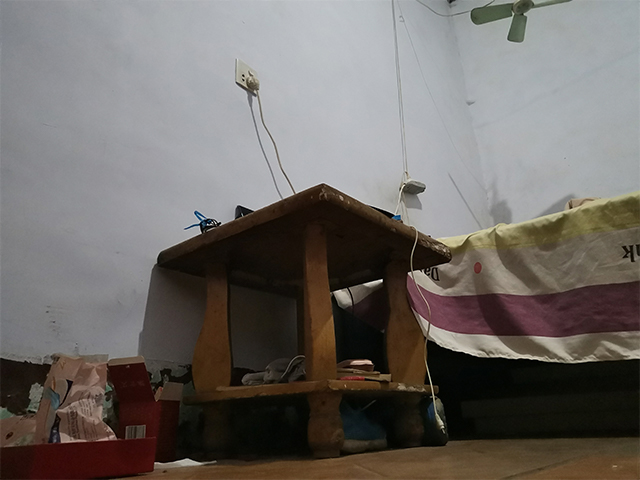bed: (408, 190, 640, 427)
table: (156, 182, 453, 462)
wire: (246, 80, 448, 437)
